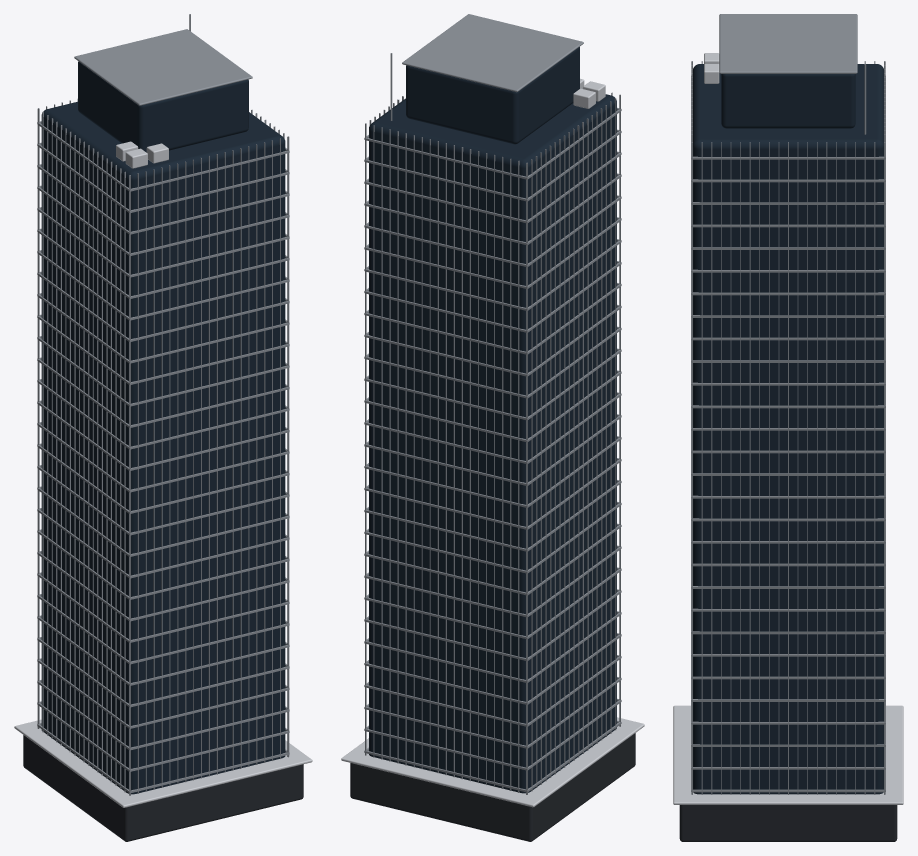
The model's file is officeTower.glb.
The picture shows the model from 3 angles, left to right: view 1: azimuth 30°, elevation 25°; view 2: azimuth 150°, elevation 25°; view 3: azimuth 270°, elevation 25°; orthographic projection. The views are drawn at different scales.
Parts seen in each view (by area): view 1: curtain, mullions, lobby, crown, officeTower, canopy, plant; view 2: curtain, mullions, lobby, crown, officeTower, canopy, plant; view 3: curtain, mullions, officeTower, lobby, crown, canopy, plant.
Boxes of the visible parts, x1=… form: curtain: x1=41, y1=101, x2=285, y2=794; mullions: x1=37, y1=99, x2=289, y2=795; lobby: x1=23, y1=735, x2=303, y2=841; crown: x1=78, y1=61, x2=248, y2=152; officeTower: x1=74, y1=29, x2=252, y2=105; canopy: x1=14, y1=719, x2=312, y2=807; plant: x1=116, y1=141, x2=168, y2=168; curtain: x1=369, y1=94, x2=616, y2=793; mullions: x1=364, y1=92, x2=621, y2=794; lobby: x1=350, y1=733, x2=635, y2=841; crown: x1=406, y1=47, x2=579, y2=144; officeTower: x1=402, y1=14, x2=583, y2=92; canopy: x1=341, y1=717, x2=644, y2=807; plant: x1=573, y1=78, x2=605, y2=108; curtain: x1=693, y1=64, x2=883, y2=794; mullions: x1=691, y1=61, x2=885, y2=794; officeTower: x1=719, y1=14, x2=857, y2=73; lobby: x1=679, y1=805, x2=897, y2=841; crown: x1=721, y1=74, x2=855, y2=128; canopy: x1=673, y1=705, x2=903, y2=804; plant: x1=704, y1=53, x2=719, y2=83.
Bounding box in the file's own units: 36 × 132 × 36.
